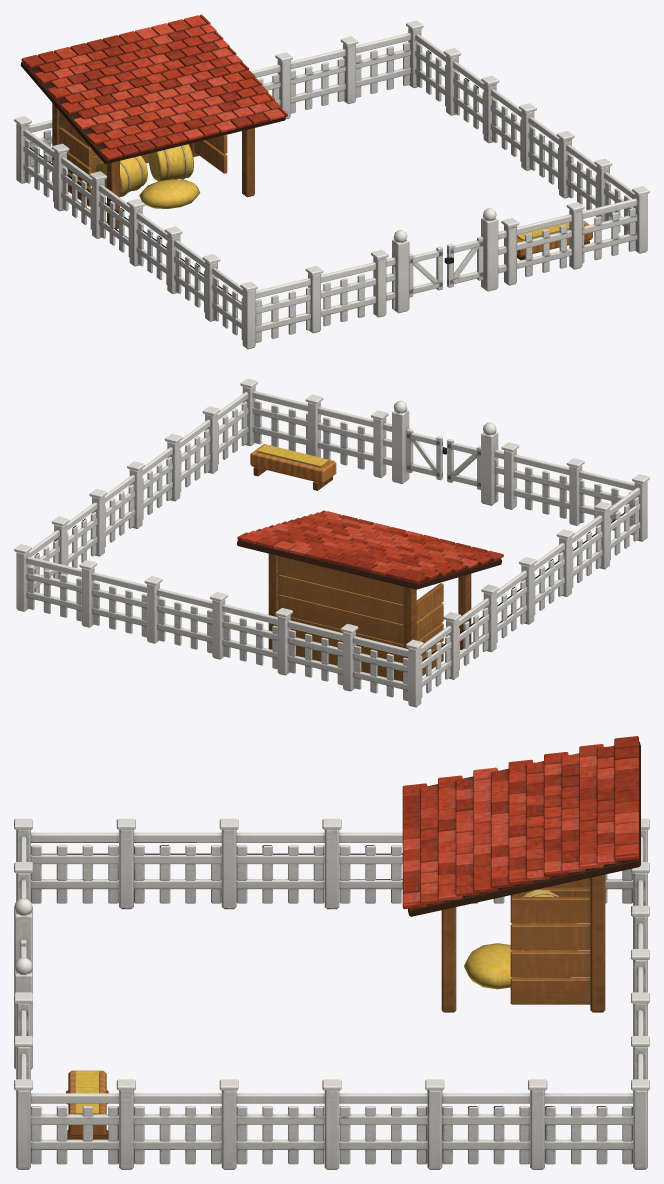
File: charolais_pasture.glb
The picture shows the model from 3 angles, top to bottom: view 1: azimuth 30°, elevation 25°; view 2: azimuth 150°, elevation 25°; view 3: azimuth 270°, elevation 25°; orthographic projection. The views are drawn at different scales.
Parts seen in each view (by area): view 1: charolais_pasture, gate1, gate0; view 2: charolais_pasture, gate1, gate0; view 3: charolais_pasture.
Boxes of the visible parts, x1,y1,x2,y2 form: charolais_pasture: (14, 14, 649, 349); gate1: (444, 236, 483, 287); gate0: (409, 246, 442, 297); charolais_pasture: (14, 378, 649, 707); gate1: (406, 429, 446, 480); gate0: (447, 439, 480, 489); charolais_pasture: (14, 736, 649, 1169).
Bounding box in the file's own units: 2.99 × 0.9346 × 2.99.
Materials: 1 (1 with a texture image).
